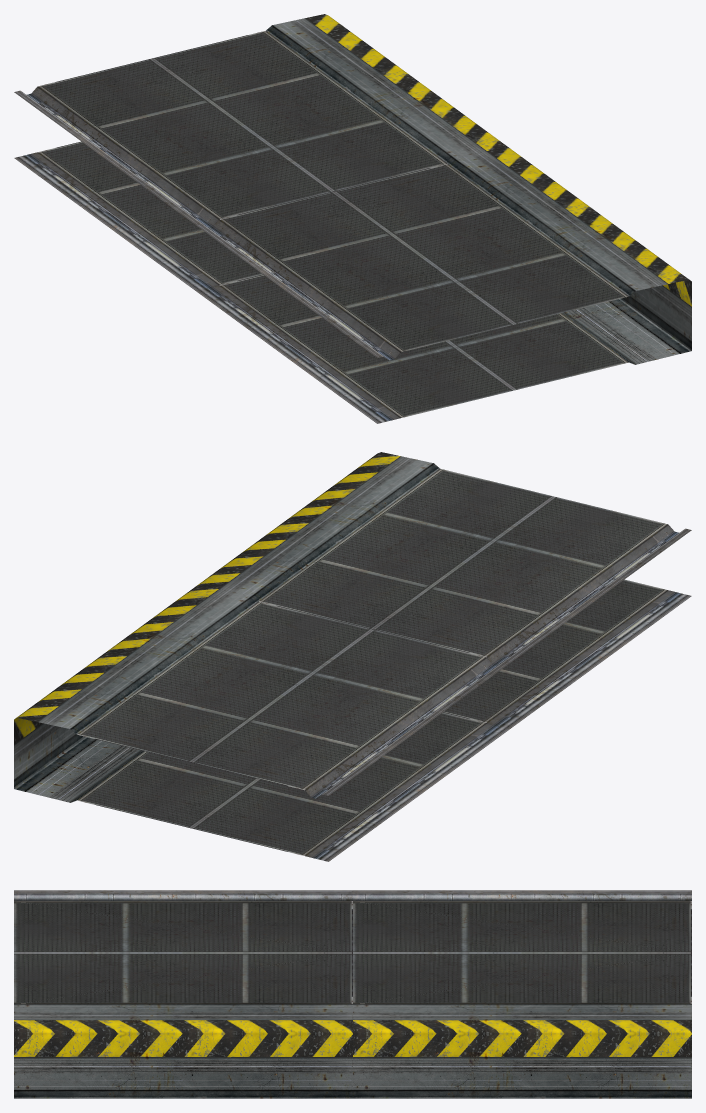
File: FLO_PLatformSolid_5x2'5.FBX
3 renders of one model, top to bottom at view 1: azimuth 30°, elevation 25°; view 2: azimuth 150°, elevation 25°; view 3: azimuth 270°, elevation 25°, orthographic. The views are drawn at different scales.
Parts seen in each view (by area): view 1: FLO_PLatformSolid_5x2'5; view 2: FLO_PLatformSolid_5x2'5; view 3: FLO_PLatformSolid_5x2'5.
Boxes of the visible parts, left/top/right/bottom form: FLO_PLatformSolid_5x2'5: left=14, top=14, right=691, bottom=423; FLO_PLatformSolid_5x2'5: left=14, top=452, right=691, bottom=861; FLO_PLatformSolid_5x2'5: left=14, top=890, right=691, bottom=1098.
Bounding box in the file's own units: 250 × 55.97 × 500.
Materials: 1 (1 with a texture image).
